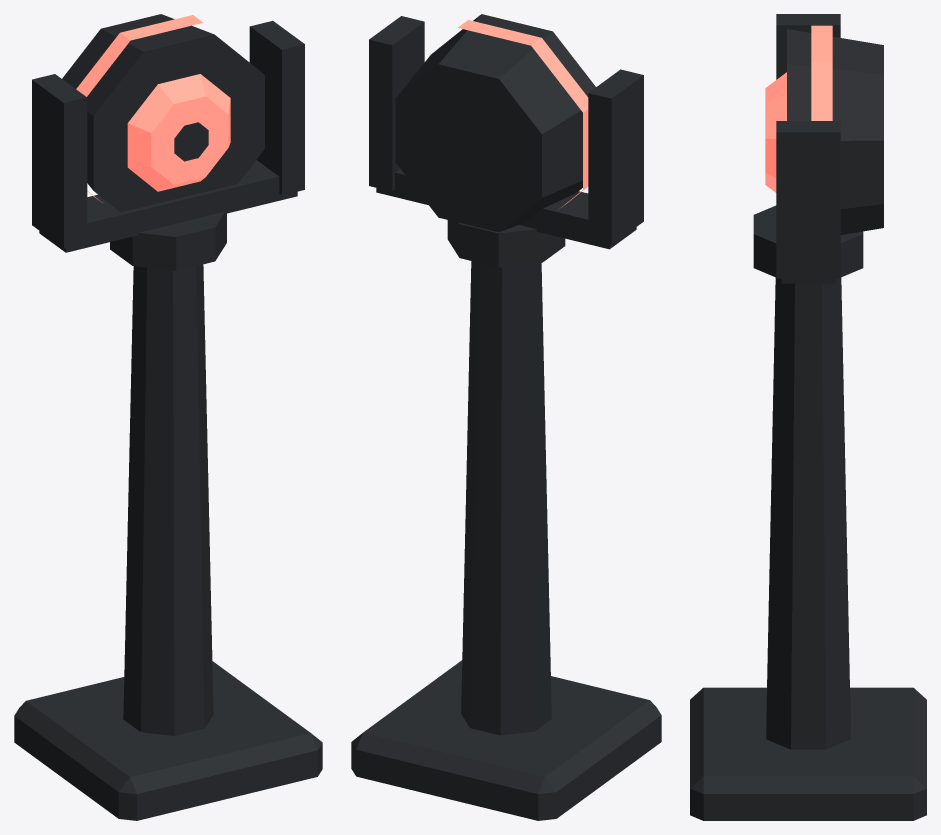
The model's file is sensor.glb.
3 views of the same model, side by side, from view 1: azimuth 30°, elevation 25°; view 2: azimuth 150°, elevation 25°; view 3: azimuth 270°, elevation 25° (orthographic).
Parts seen in each view (by area): view 1: Mesh; view 2: Mesh; view 3: Mesh.
Boxes of the visible parts, x1=… form: Mesh: x1=14, y1=14, x2=322, y2=820; Mesh: x1=351, y1=14, x2=661, y2=820; Mesh: x1=690, y1=14, x2=926, y2=820.
Size of the model in its own units: 0.52 by 1.49 by 0.44.
